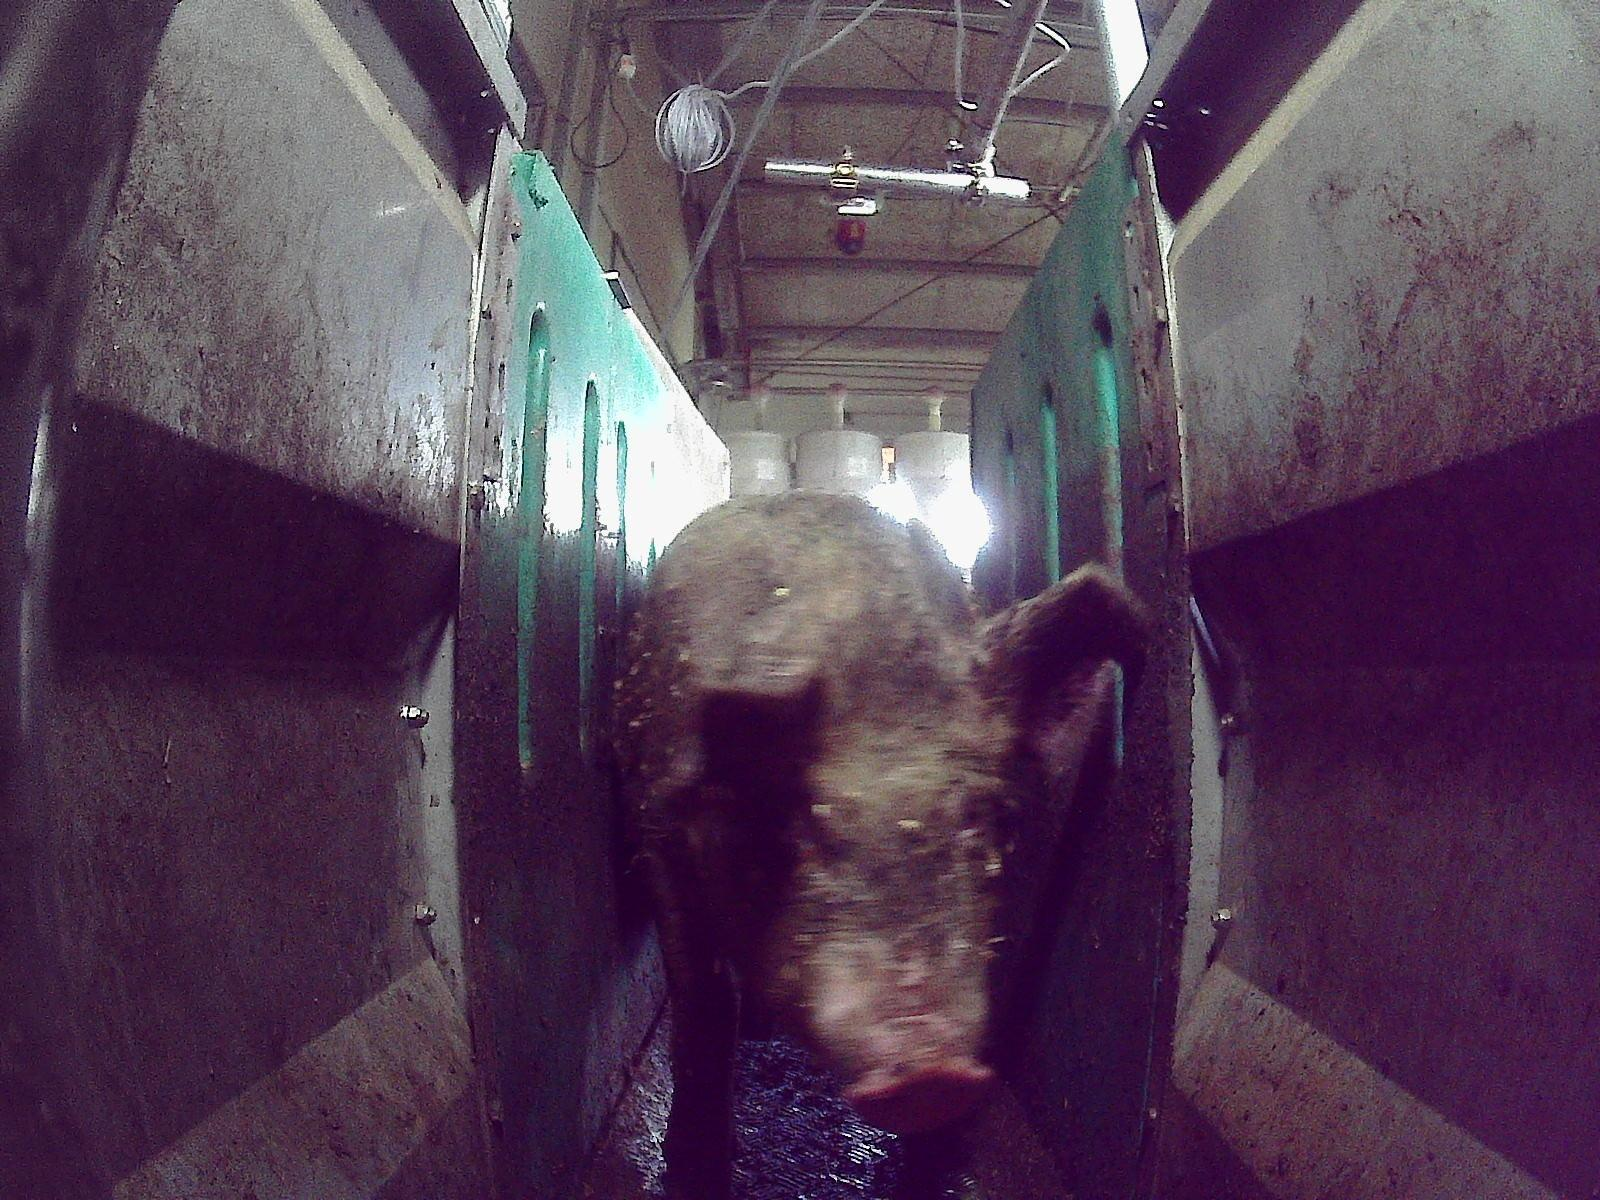Face: (701, 619, 1041, 1132)
